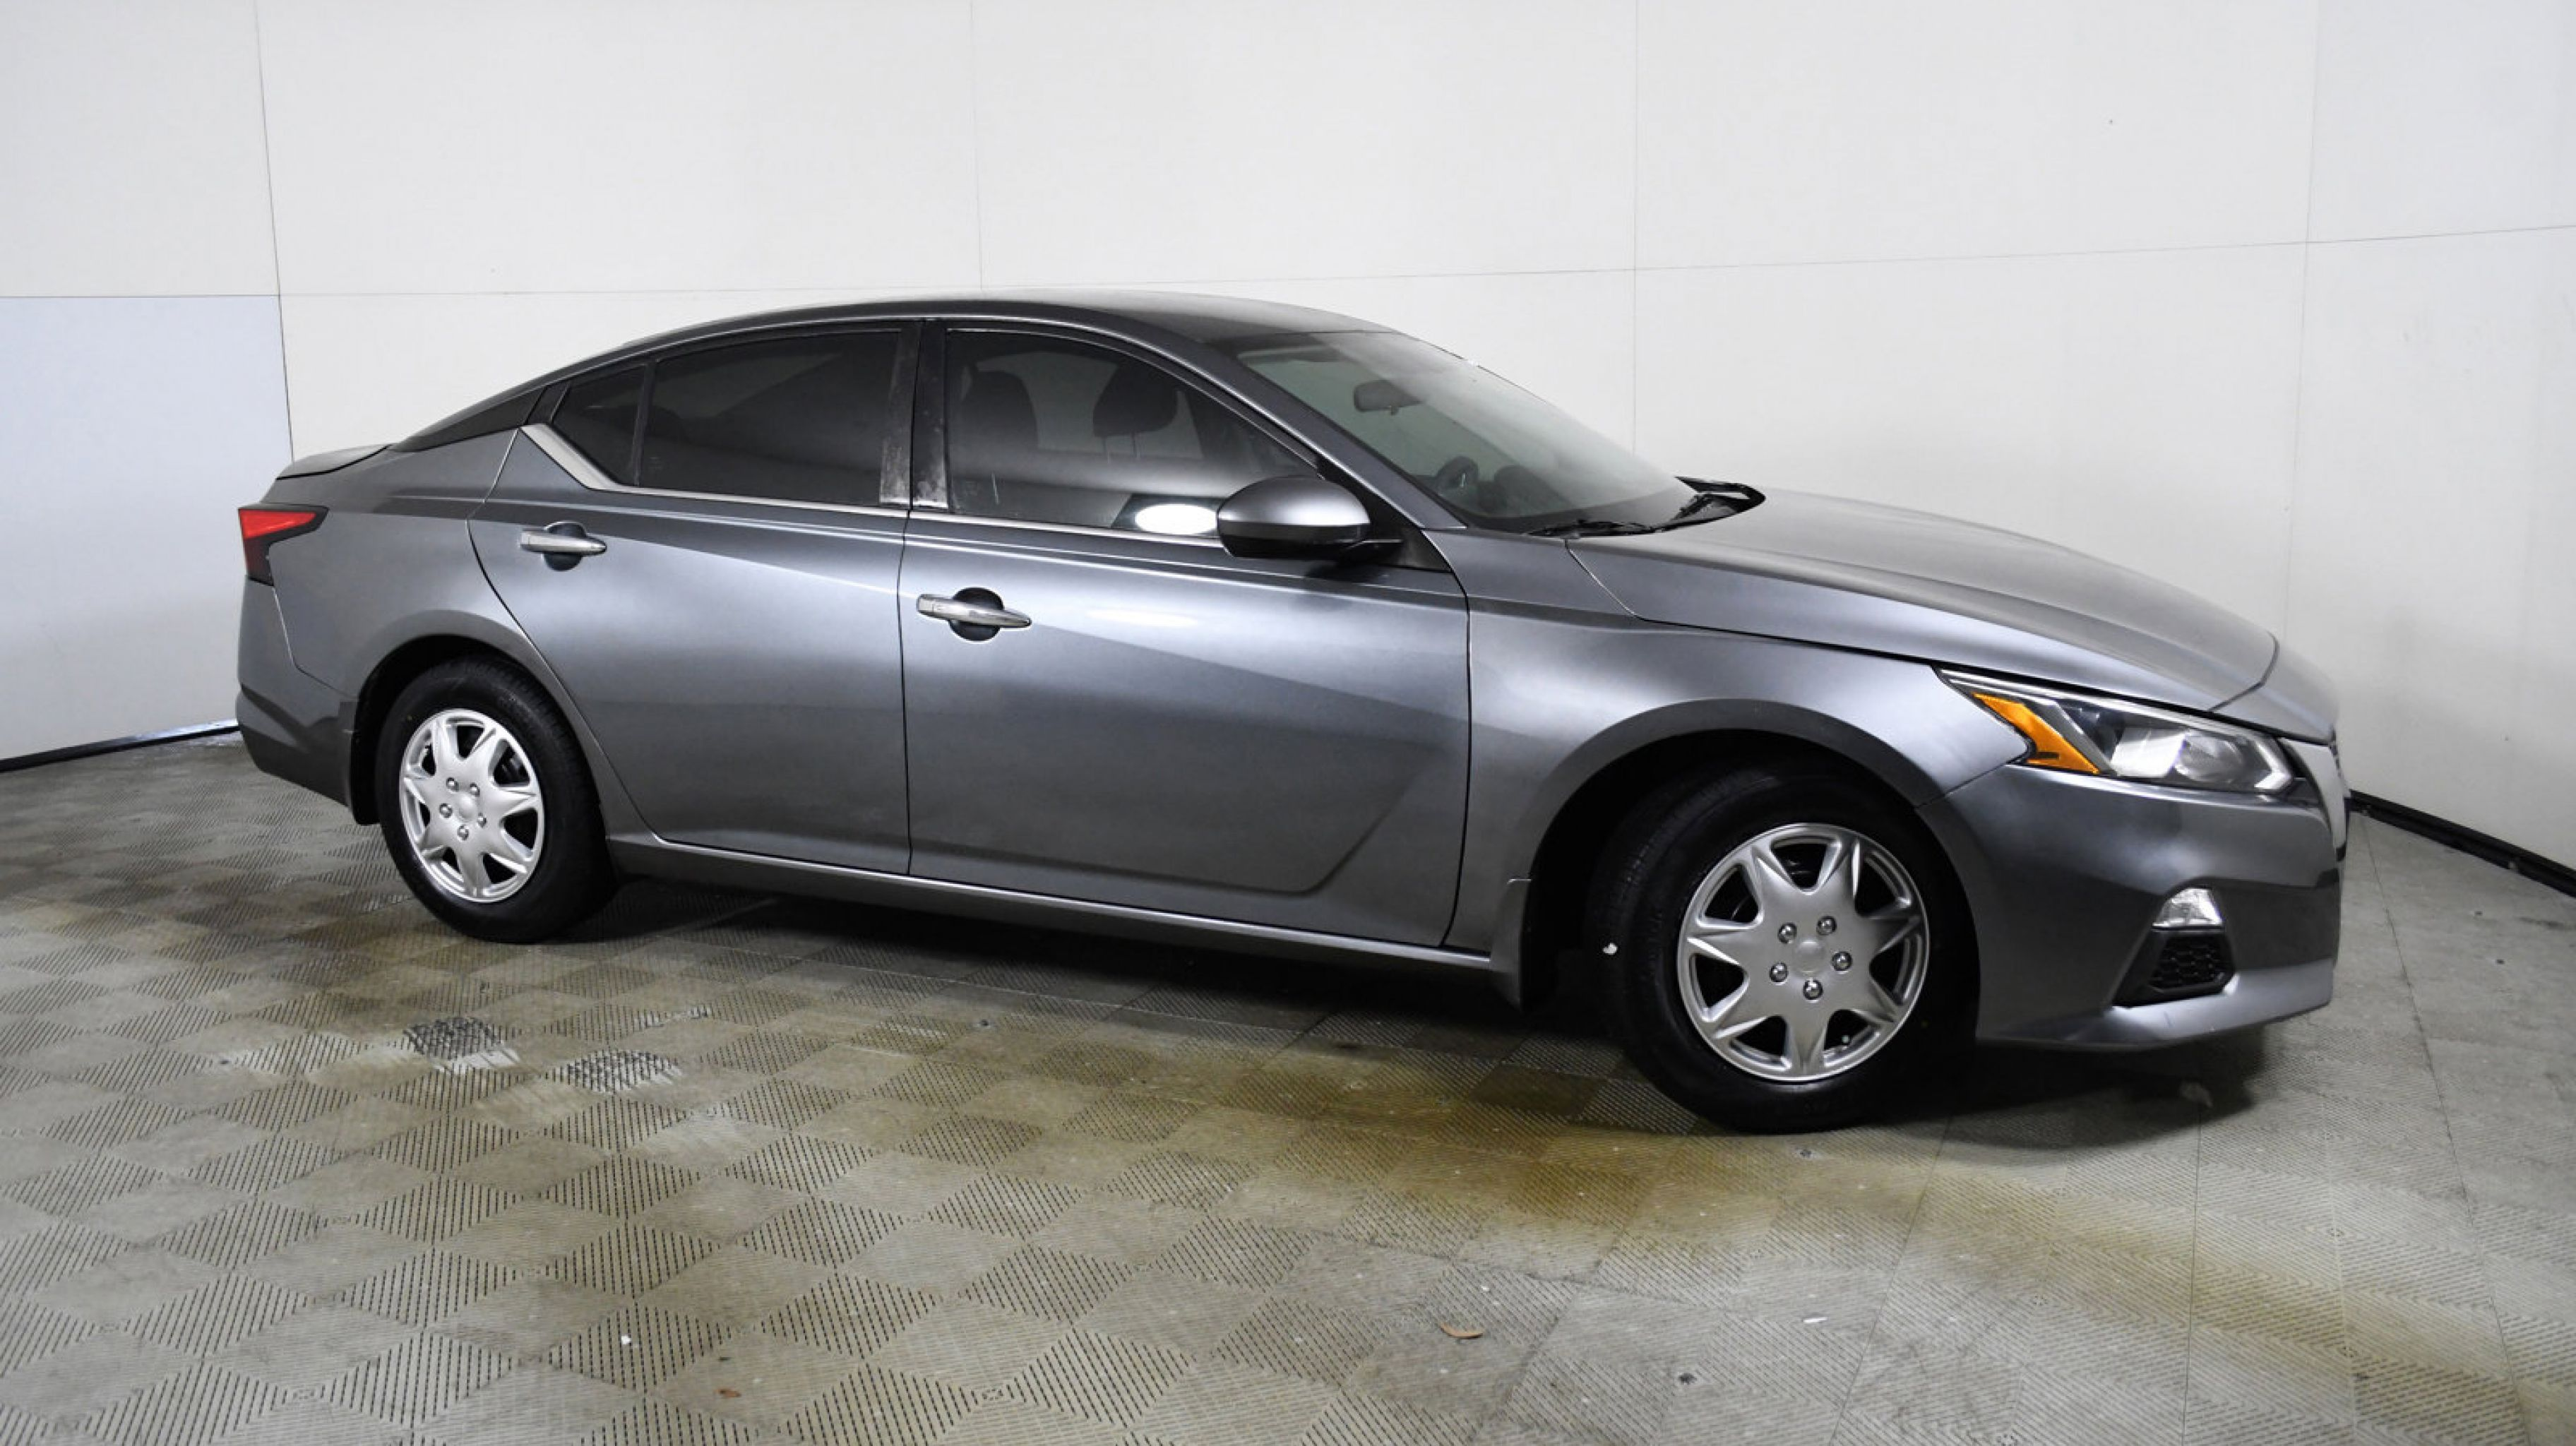car: (214, 280, 2357, 1142)
